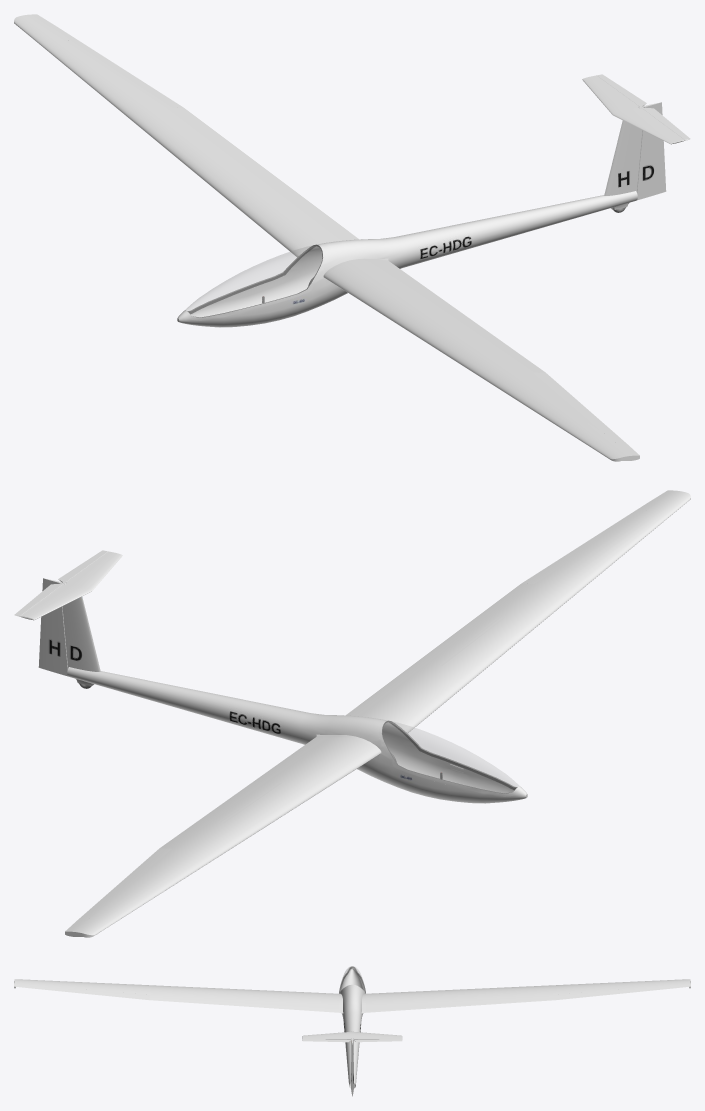
The picture shows the model from 3 angles, top to bottom: view 1: azimuth 30°, elevation 25°; view 2: azimuth 150°, elevation 25°; view 3: azimuth 270°, elevation 25°; orthographic projection. The views are drawn at different scales.
Parts seen in each view (by area): view 1: 04wing-r, 03wing-l, 01fuselage, 20canopy_glass, 21cockpit, 12elevator_fix, 14rudder_fix, 13rudder, 19canopy_frame, 08aileron_r, 07aileron_l, 11elevator; view 2: 03wing-l, 04wing-r, 01fuselage, 20canopy_glass, 21cockpit, 12elevator_fix, 14rudder_fix, 13rudder, 19canopy_frame, 07aileron_l, 08aileron_r, 11elevator; view 3: 04wing-r, 03wing-l, 01fuselage, 12elevator_fix, 07aileron_l, 08aileron_r, 20canopy_glass, 11elevator, 21cockpit.
Part boxes in pixels (box(x1,y1,x2,y2)): 04wing-r: box(14, 14, 359, 256); 03wing-l: box(324, 261, 639, 461); 01fuselage: box(177, 191, 637, 327); 20canopy_glass: box(186, 245, 322, 317); 21cockpit: box(190, 246, 322, 317); 12elevator_fix: box(582, 75, 684, 144); 14rudder_fix: box(604, 120, 642, 195); 13rudder: box(637, 102, 666, 200); 19canopy_frame: box(182, 244, 326, 320); 08aileron_r: box(47, 26, 183, 107); 07aileron_l: box(533, 372, 626, 444); 11elevator: box(597, 74, 690, 140); 03wing-l: box(345, 490, 690, 732); 04wing-r: box(65, 737, 380, 937); 01fuselage: box(67, 667, 527, 803); 20canopy_glass: box(382, 721, 518, 793); 21cockpit: box(382, 722, 514, 793); 12elevator_fix: box(20, 551, 122, 620); 14rudder_fix: box(62, 596, 100, 671); 13rudder: box(38, 578, 67, 676); 19canopy_frame: box(378, 720, 522, 796); 07aileron_l: box(521, 502, 657, 583); 08aileron_r: box(78, 848, 171, 920); 11elevator: box(14, 550, 107, 616); 04wing-r: box(365, 979, 690, 1012); 03wing-l: box(14, 979, 339, 1012); 01fuselage: box(339, 985, 365, 1088); 12elevator_fix: box(302, 1031, 402, 1039); 07aileron_l: box(32, 984, 149, 999); 08aileron_r: box(555, 984, 672, 999); 20canopy_glass: box(339, 966, 365, 992); 11elevator: box(302, 1038, 402, 1042); 21cockpit: box(340, 967, 364, 991).
Bounding box in the file's own units: 7 × 1.67 × 14.98.
Materials: 14 (2 with a texture image).
